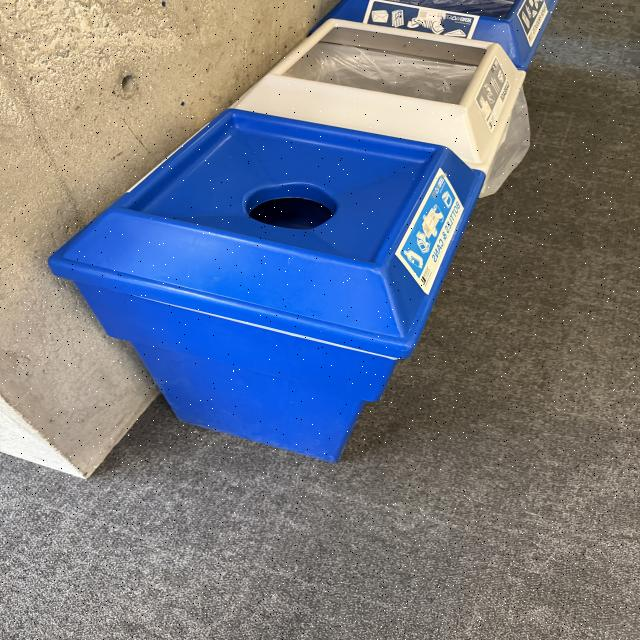Dustbin: (47, 0, 551, 463)
